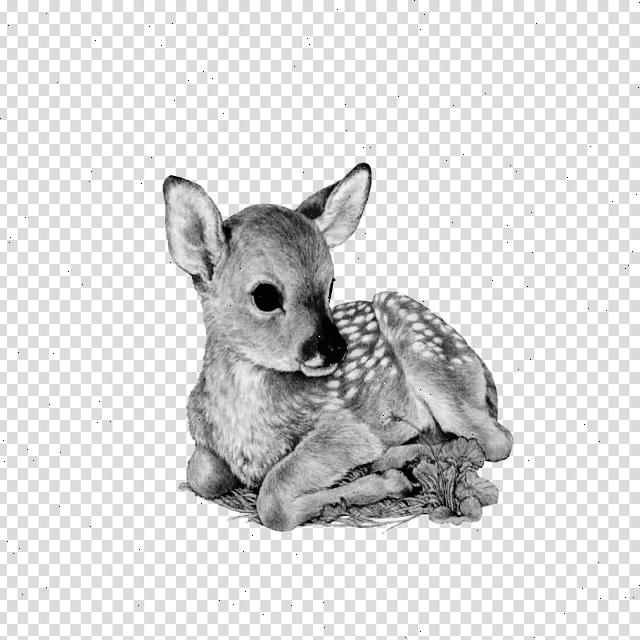deer: (138, 140, 394, 467)
